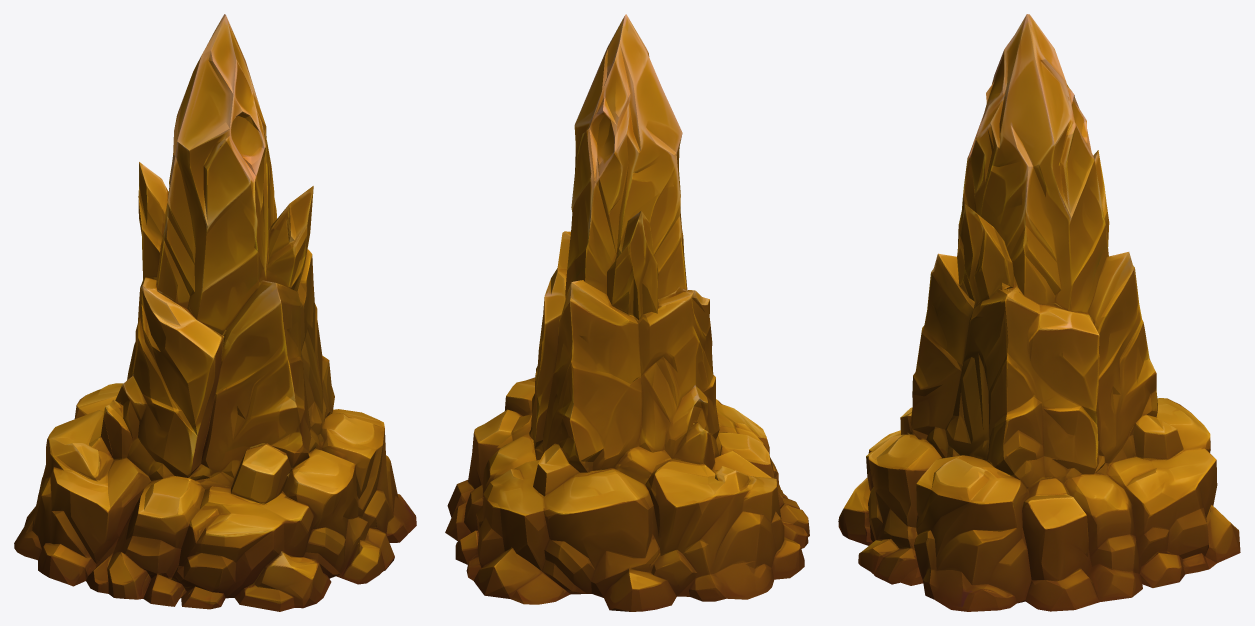
Rendered from SM_Ore31.fbx.
The picture shows the model from 3 angles, left to right: view 1: azimuth 30°, elevation 25°; view 2: azimuth 150°, elevation 25°; view 3: azimuth 270°, elevation 25°; orthographic projection.
Parts seen in each view (by area): view 1: Ore31; view 2: Ore31; view 3: Ore31.
Part boxes in pixels (bbox=[...]): Ore31: bbox=[14, 14, 416, 611]; Ore31: bbox=[445, 14, 809, 611]; Ore31: bbox=[838, 14, 1240, 611].
Bounding box in the file's own units: 150 × 220 × 153.
Materials: 1 (1 with a texture image).
